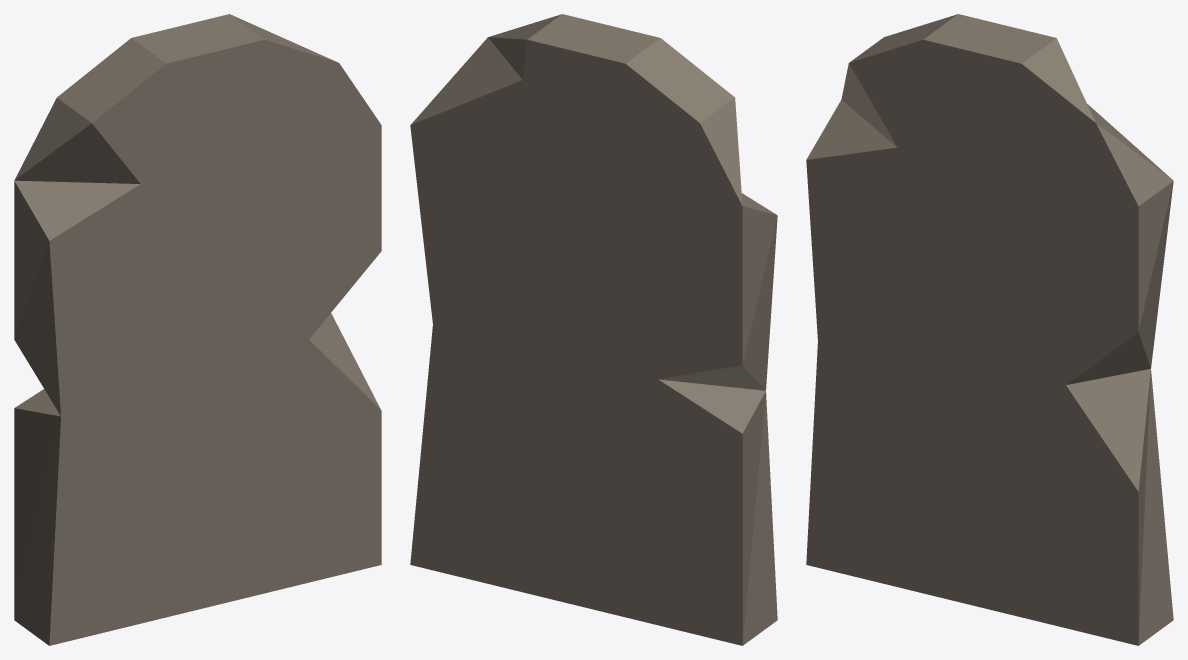
The model's file is SM_Prop_Grave_03.glb.
3 views of the same model, side by side, from view 1: azimuth 30°, elevation 25°; view 2: azimuth 150°, elevation 25°; view 3: azimuth 330°, elevation 25° (orthographic).
Parts seen in each view (by area): view 1: SM_Prop_Grave_03_part00; view 2: SM_Prop_Grave_03_part00; view 3: SM_Prop_Grave_03_part00.
Boxes of the visible parts, x1,y1,x2,y2 form: SM_Prop_Grave_03_part00: (14,14,381,645); SM_Prop_Grave_03_part00: (410,14,777,645); SM_Prop_Grave_03_part00: (806,14,1173,645).
Size of the model in its own units: 0.6034 by 0.9609 by 0.1105.
1 material, 1 textured.
